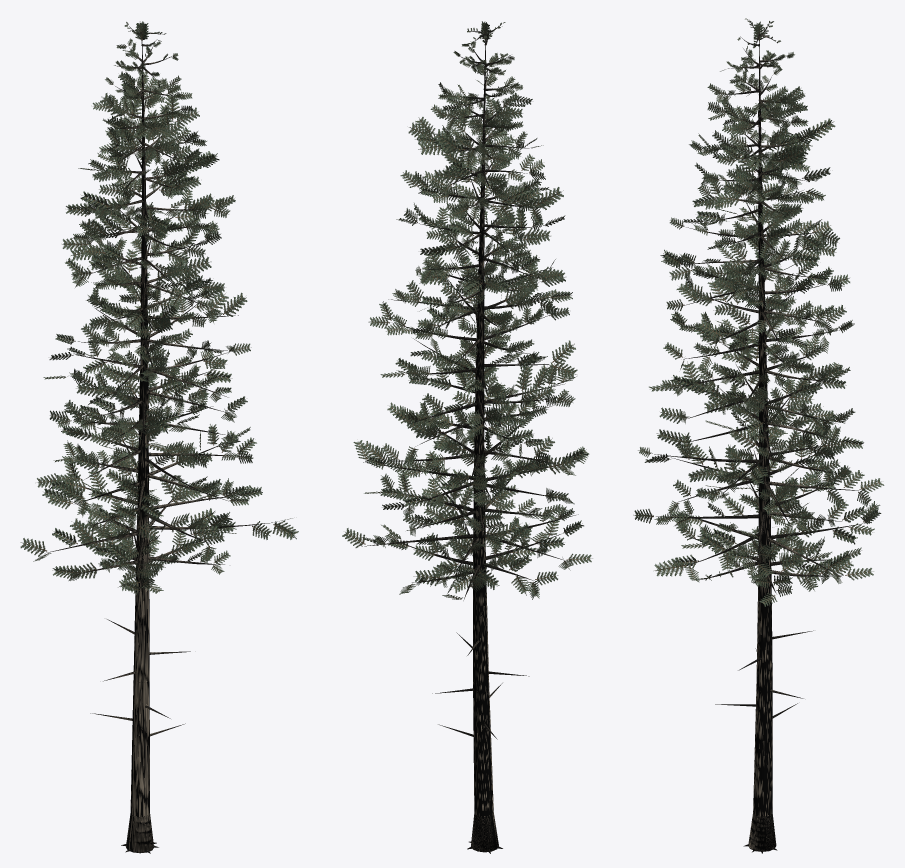
File: Sitka_OldLarge_01_Unpruned_LOD1.fbx
The picture shows the model from 3 angles, left to right: view 1: azimuth 30°, elevation 25°; view 2: azimuth 150°, elevation 25°; view 3: azimuth 270°, elevation 25°; orthographic projection.
Parts seen in each view (by area): view 1: Sitka_OldLarge_01_Unpruned_LOD1; view 2: Sitka_OldLarge_01_Unpruned_LOD1; view 3: Sitka_OldLarge_01_Unpruned_LOD1.
Boxes of the visible parts, <box> form: Sitka_OldLarge_01_Unpruned_LOD1: <box>20,21,298,853</box>; Sitka_OldLarge_01_Unpruned_LOD1: <box>342,21,592,853</box>; Sitka_OldLarge_01_Unpruned_LOD1: <box>633,18,884,853</box>.
Size of the model in its own units: 963 by 3200 by 927.
2 materials, 2 textured.
